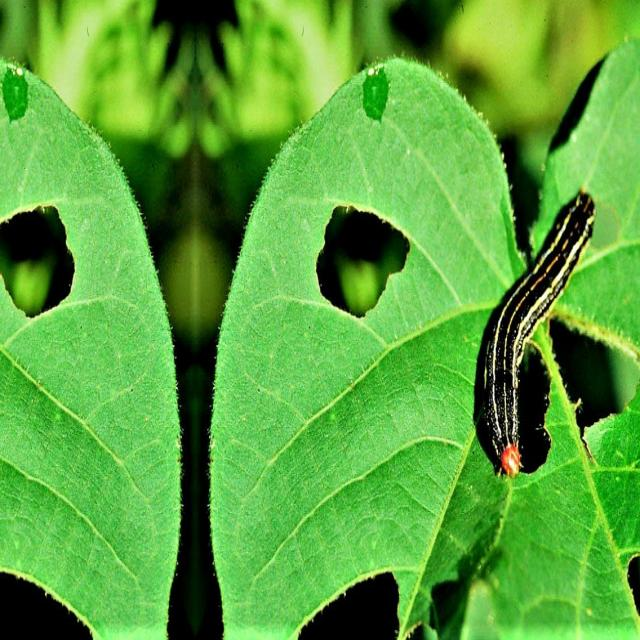Armyworm: (477, 178, 601, 459)
Armyworm_damage: (288, 166, 414, 342), (551, 308, 640, 454), (1, 181, 82, 330)
